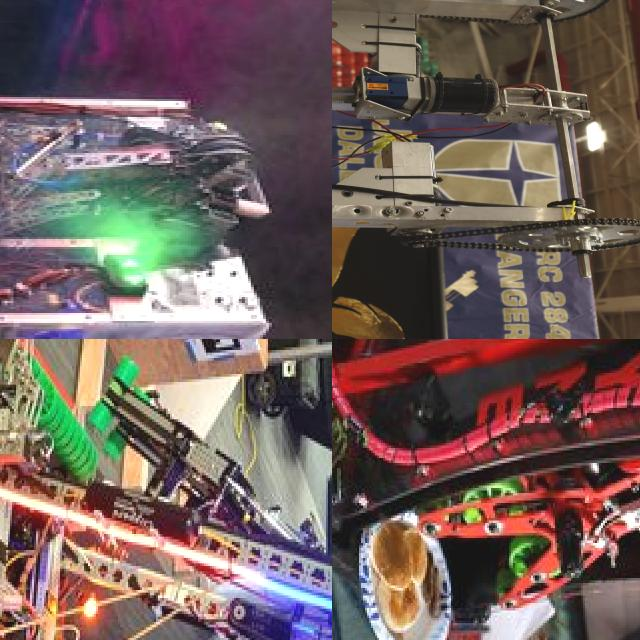FRC-Robots: (0, 0, 321, 339), (0, 339, 332, 640), (332, 339, 640, 640)
